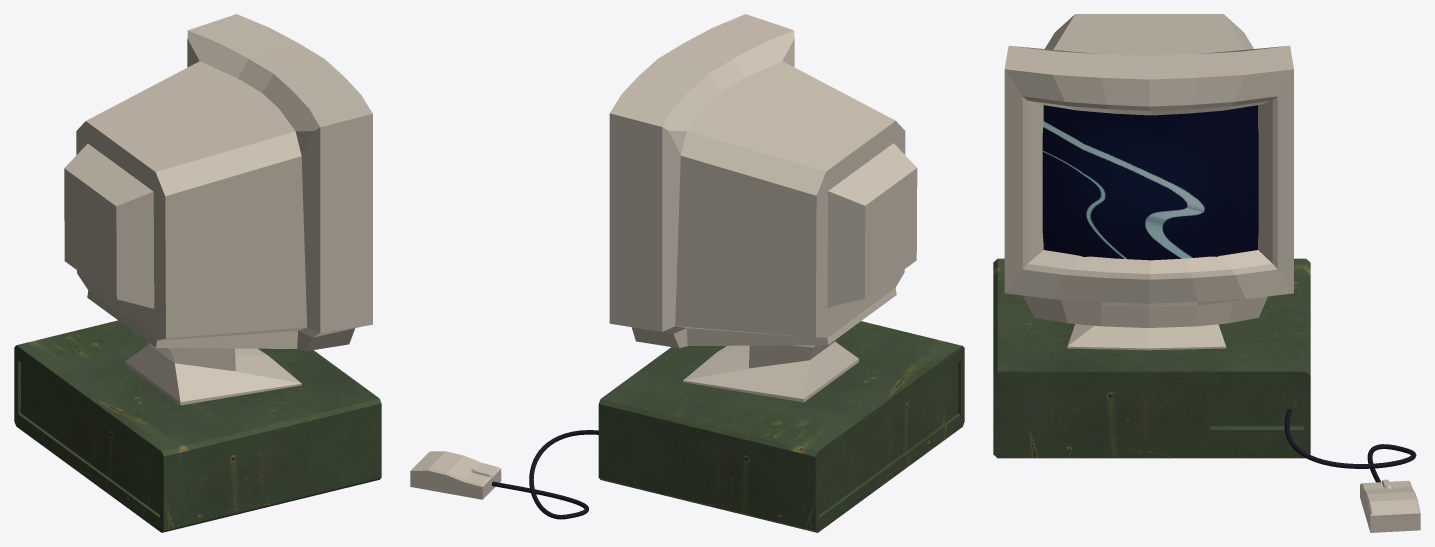
Rendered from Old_computer_V1.fbx.
3 views of the same model, side by side, from view 1: azimuth 30°, elevation 25°; view 2: azimuth 150°, elevation 25°; view 3: azimuth 270°, elevation 25° (orthographic). The views are drawn at different scales.
Parts seen in each view (by area): view 1: Computer screen V1, Computer box V1; view 2: Computer screen V1, Computer box V1, Mouse V1, Wire V1; view 3: Computer screen V1, Computer box V1, Screen, Mouse V1, Wire V1.
Boxes of the visible parts, x1=… form: Computer screen V1: x1=64, y1=14, x2=372, y2=405; Computer box V1: x1=14, y1=320, x2=381, y2=532; Computer screen V1: x1=609, y1=14, x2=917, y2=402; Computer box V1: x1=598, y1=321, x2=964, y2=532; Mouse V1: x1=410, y1=451, x2=501, y2=499; Wire V1: x1=492, y1=430, x2=598, y2=519; Computer screen V1: x1=1004, y1=14, x2=1293, y2=350; Computer box V1: x1=993, y1=258, x2=1310, y2=458; Screen: x1=1042, y1=105, x2=1258, y2=260; Mouse V1: x1=1360, y1=479, x2=1420, y2=532; Wire V1: x1=1284, y1=408, x2=1416, y2=482.
Bounding box in the file's own units: 357 × 347 × 346.
Materials: 5 (2 with a texture image).
